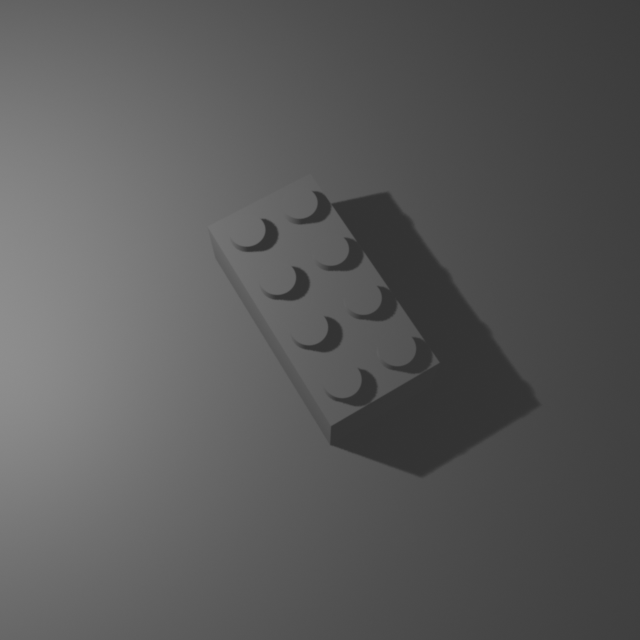lego_2x4: (206, 167, 441, 445)
